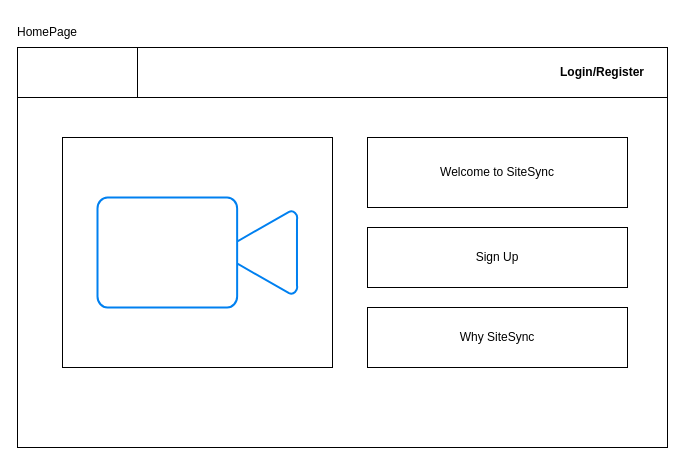
Image size: 685x465. Some labels were removed from this diagram. Each missing label, with the centre of its shape:
"SITESYNC LOGO" belongs at point 77,72.
"Video on How to use the app" belongs at point 197,252.
